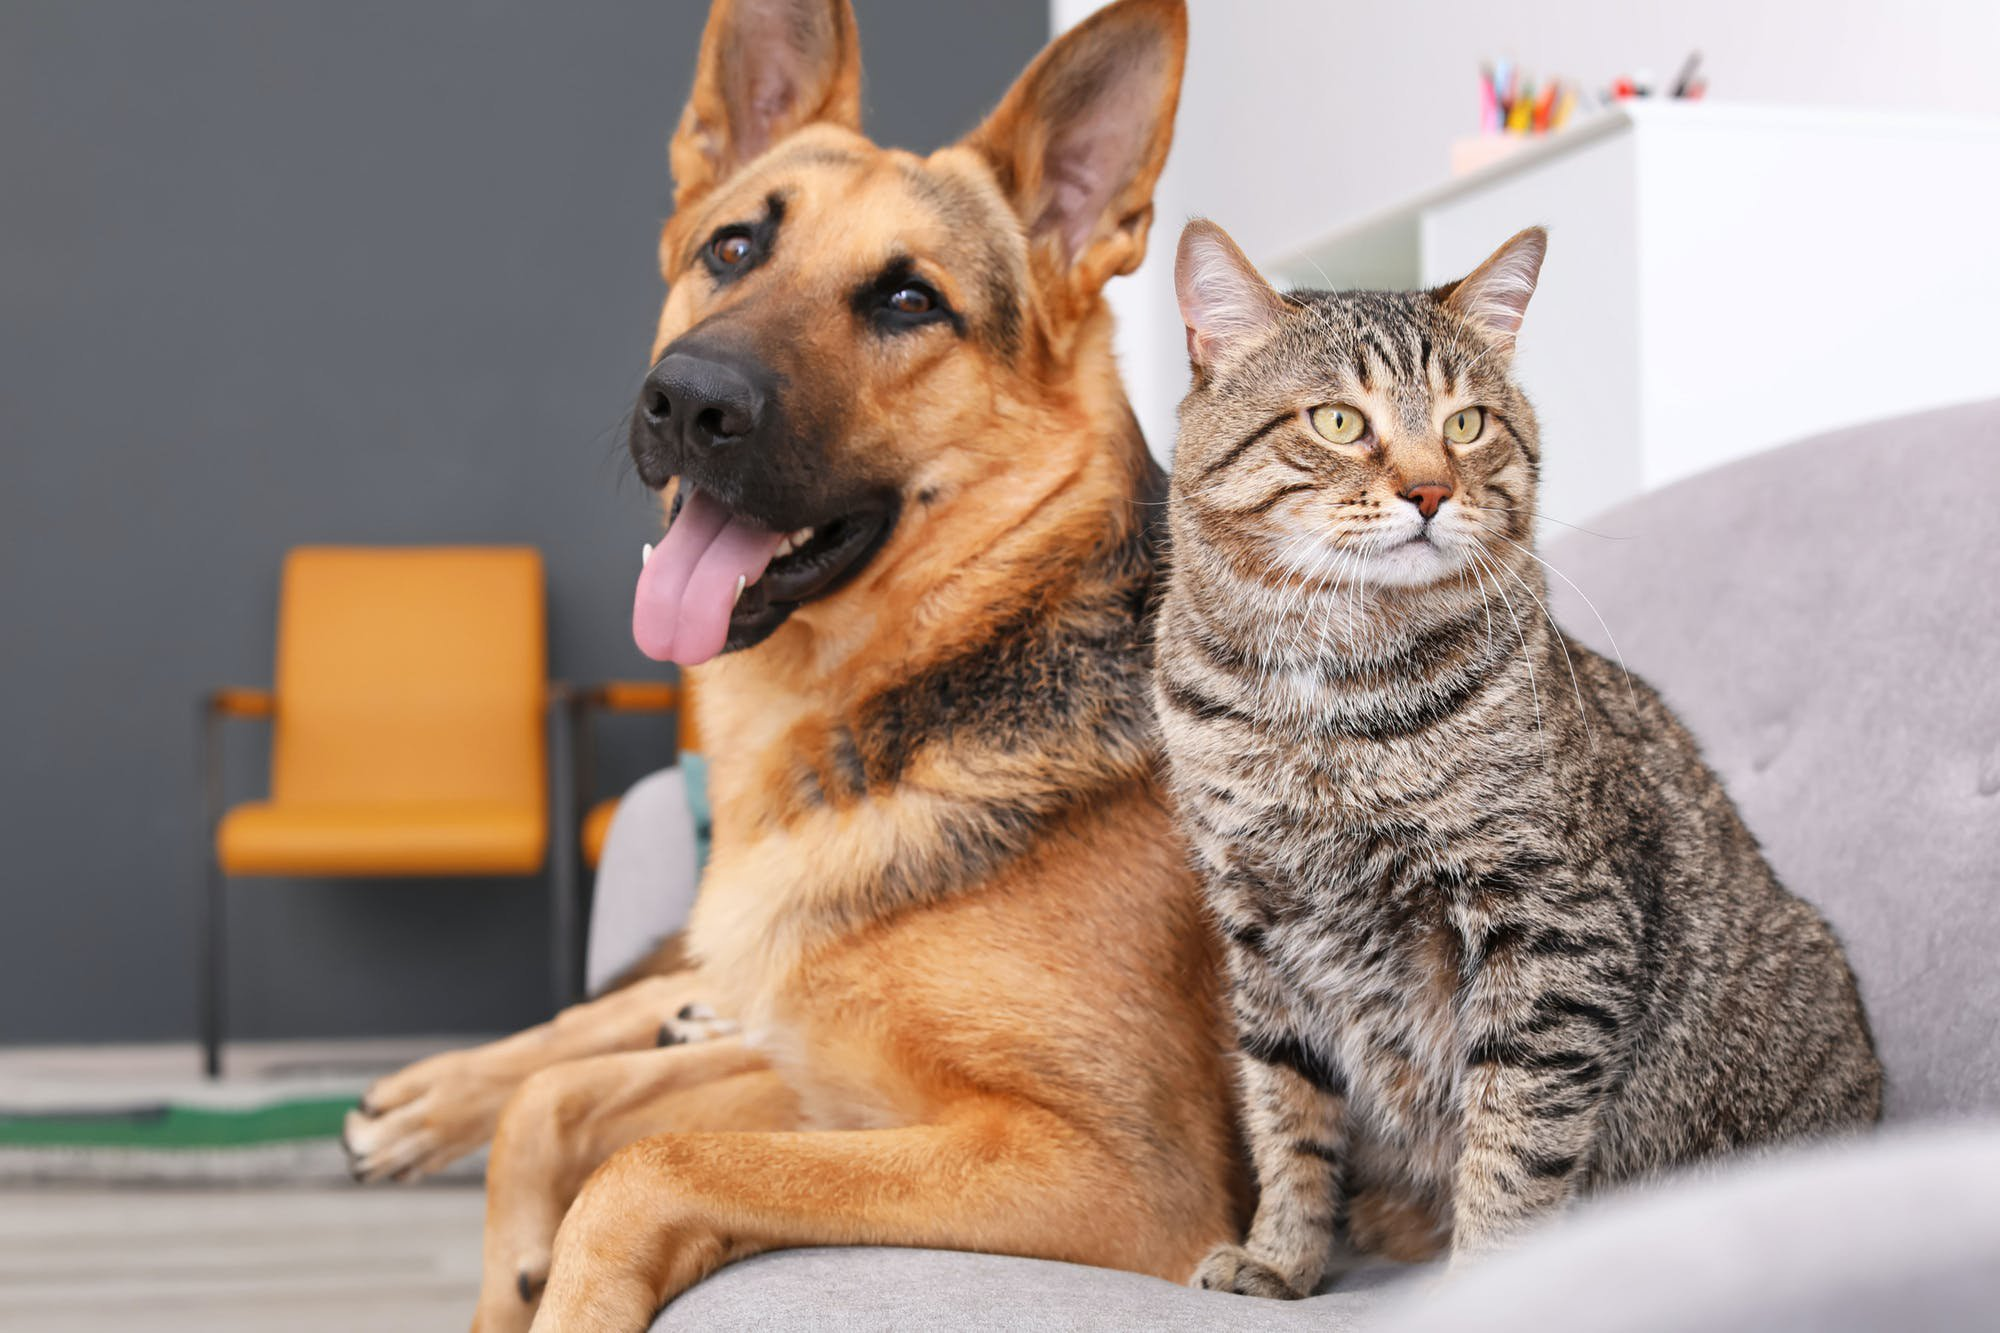cat: (1143, 198, 1912, 1285)
dog: (457, 4, 1248, 1275)
